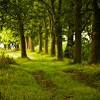forest: (2, 2, 100, 98)
